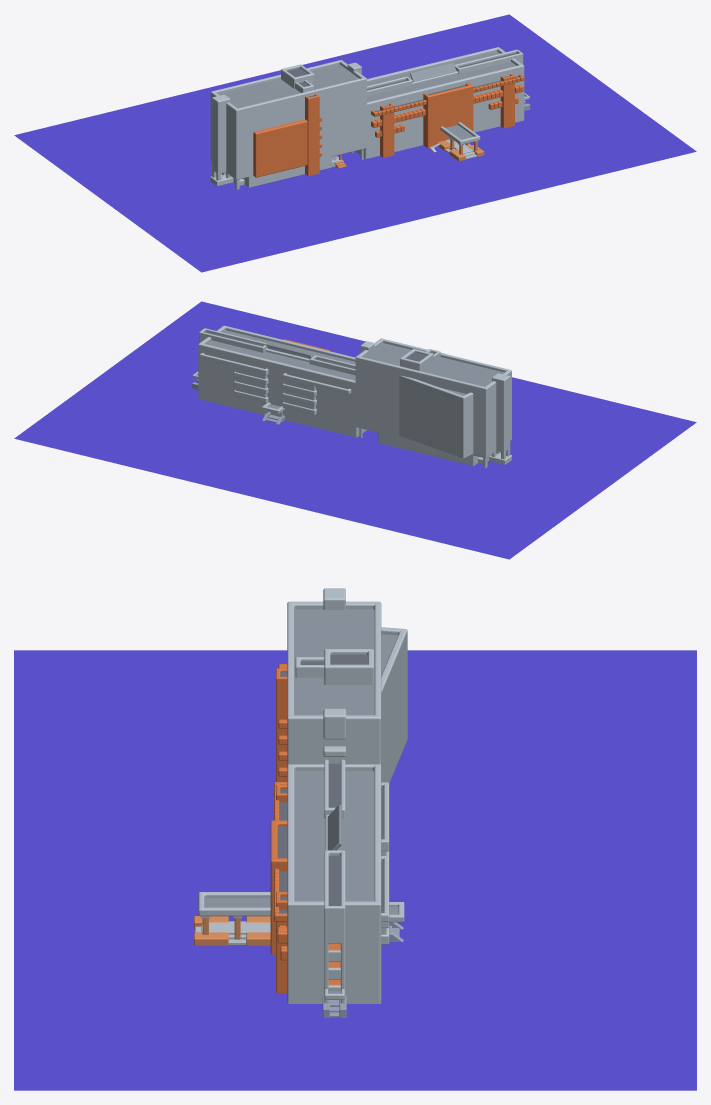
File: aiu2.glb
3 renders of one model, top to bottom at view 1: azimuth 30°, elevation 25°; view 2: azimuth 150°, elevation 25°; view 3: azimuth 270°, elevation 25°, orthographic. The views are drawn at different scales.
Parts seen in each view (by area): view 1: floor, Cube.752, Cube.1116, Cube.058, Cube.042, Cube.057, Cube.106, Cube.105, Cube.043, Cube.059, Cube.114, Cube.052 (+3 smaller); view 2: floor, Cube.752, Cube.1116, Cube.339, Cube.057, Cube.106, Cube.105, Cube.059, Cube.104, Cube.244, Cube.1099, Cube.300; view 3: floor, Cube.1116, Cube.106, Cube.752, Cube.057, Cube.339, Cube.059, Cube.104, Cube.308, Cube.043, Cube.042, Cube.052.
Boxes of the visible parts, x1,y1,x2,y2 form: floor: (14, 14, 696, 272); Cube.752: (210, 60, 366, 187); Cube.1116: (355, 47, 524, 158); Cube.058: (253, 119, 307, 177); Cube.042: (423, 82, 473, 148); Cube.057: (218, 64, 359, 108); Cube.106: (367, 51, 516, 102); Cube.105: (212, 94, 230, 180); Cube.043: (305, 94, 319, 176); Cube.059: (454, 49, 523, 74); Cube.114: (380, 103, 394, 157); Cube.052: (500, 73, 514, 128); floor: (14, 301, 696, 559); Cube.752: (355, 338, 511, 465); Cube.1116: (198, 325, 366, 437); Cube.339: (399, 375, 473, 458); Cube.057: (363, 343, 504, 386); Cube.106: (206, 330, 355, 380); Cube.105: (492, 373, 510, 459); Cube.059: (199, 328, 267, 352); Cube.104: (400, 348, 433, 371); Cube.244: (309, 355, 355, 375); Cube.1099: (199, 353, 268, 375); Cube.300: (282, 373, 351, 394); floor: (14, 650, 696, 1090); Cube.1116: (287, 764, 381, 1003); Cube.106: (294, 771, 374, 901); Cube.752: (287, 601, 381, 764); Cube.057: (294, 609, 374, 715); Cube.339: (381, 627, 407, 782); Cube.059: (324, 850, 345, 1003); Cube.104: (324, 649, 373, 684); Cube.308: (198, 892, 270, 916); Cube.043: (276, 668, 287, 781); Cube.042: (270, 820, 287, 954); Cube.052: (276, 892, 287, 992).
Bounding box in the file's own units: 29.11 × 4.97 × 19.08.
